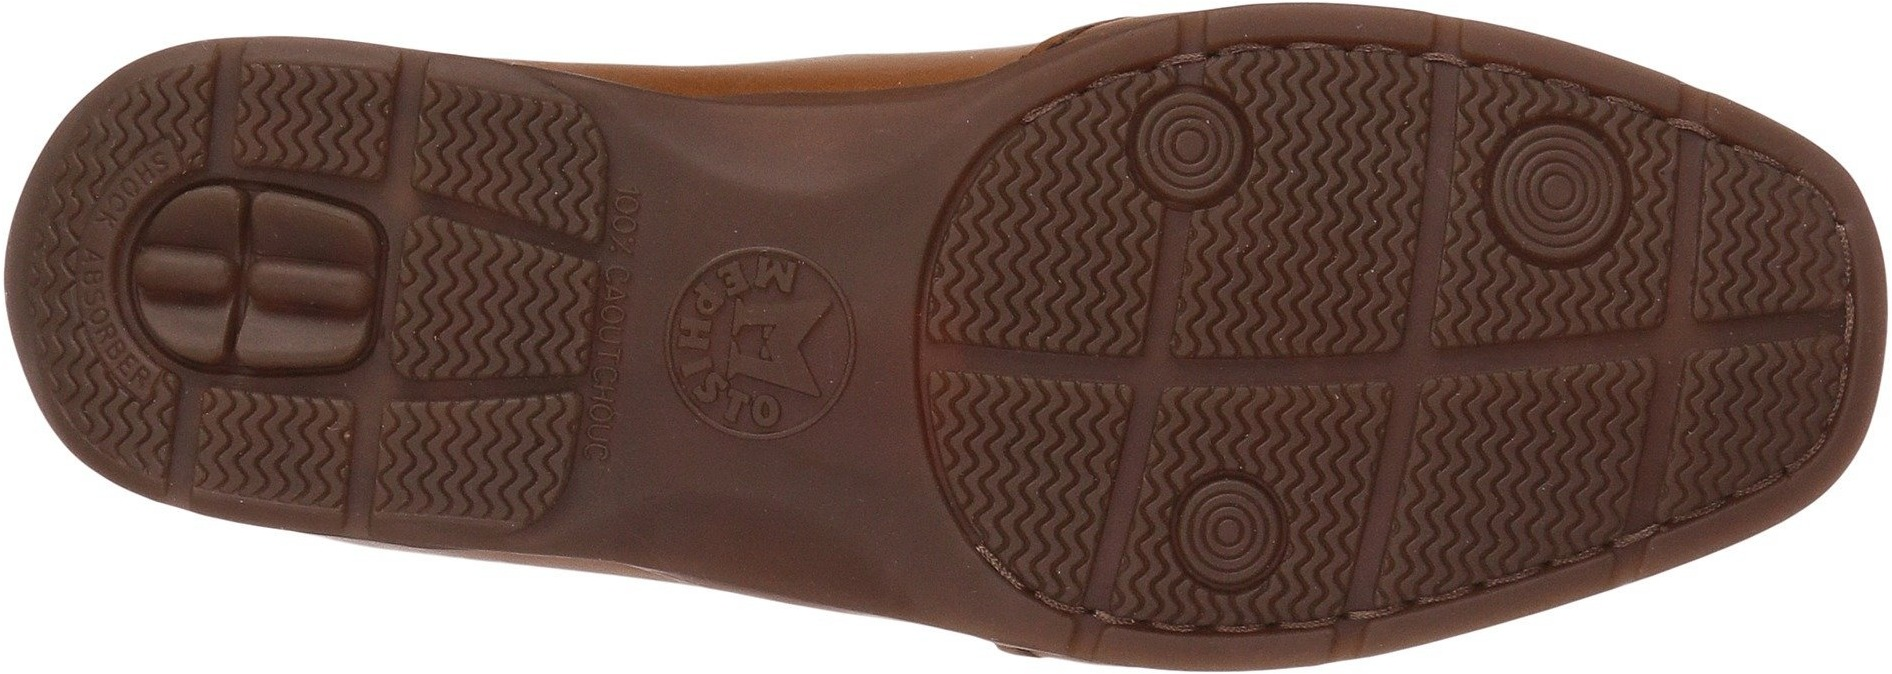chevron: (165, 373, 379, 572), (983, 178, 1145, 339), (952, 371, 1106, 534), (1452, 387, 1599, 546), (1267, 68, 1413, 227), (419, 241, 548, 367), (387, 408, 527, 522), (1237, 234, 1349, 348), (253, 61, 364, 170), (1709, 374, 1803, 471)
circle: (659, 198, 901, 468), (1482, 115, 1634, 279), (1125, 81, 1256, 217), (1182, 487, 1273, 584)
quad: (165, 373, 379, 572)
text: (659, 198, 901, 468), (679, 379, 782, 434), (738, 240, 799, 306), (675, 299, 734, 367)
